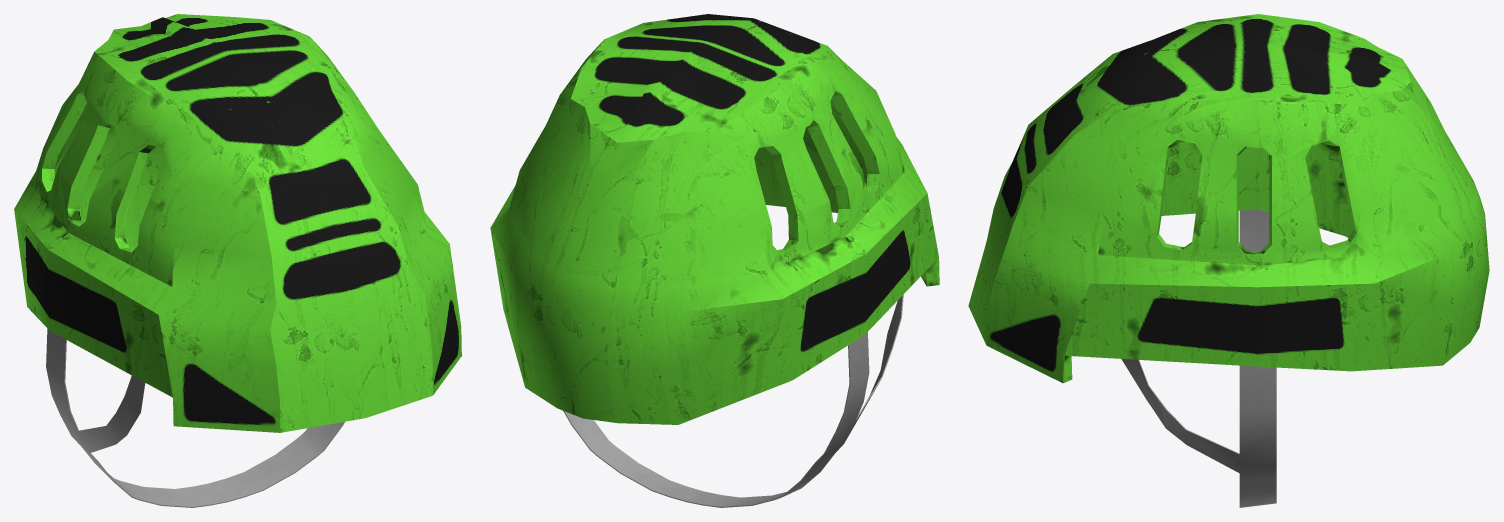
The model's file is Climbing Helmet.fbx.
3 views of the same model, side by side, from view 1: azimuth 30°, elevation 25°; view 2: azimuth 150°, elevation 25°; view 3: azimuth 270°, elevation 25° (orthographic).
Parts seen in each view (by area): view 1: Sphere, Plane; view 2: Sphere, Plane; view 3: Sphere, Plane.
Boxes of the visible parts, bbox=[...] form: Sphere: bbox=[14, 14, 461, 432]; Plane: bbox=[46, 328, 344, 507]; Sphere: bbox=[490, 14, 939, 424]; Plane: bbox=[563, 294, 903, 507]; Sphere: bbox=[968, 14, 1489, 383]; Plane: bbox=[1121, 209, 1276, 507].
Size of the model in its own units: 31.44 by 39.73 by 42.19.
Materials: 1 (1 with a texture image).
